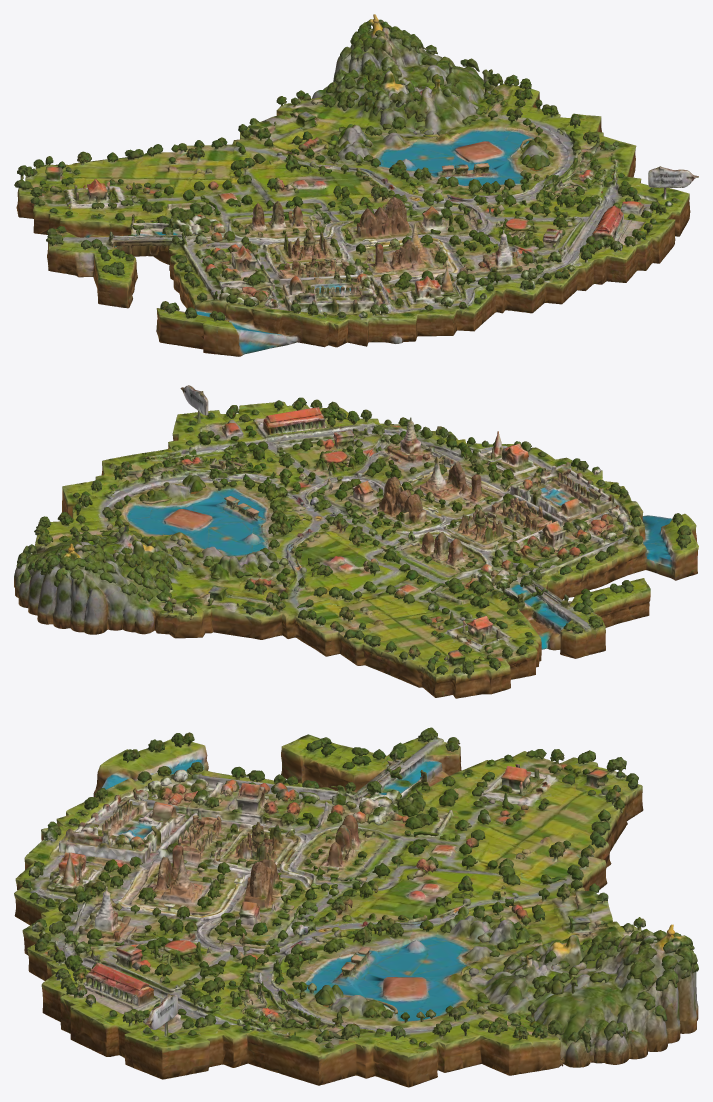
Rendered from lopburi-province.glb.
The picture shows the model from 3 angles, top to bottom: view 1: azimuth 30°, elevation 25°; view 2: azimuth 150°, elevation 25°; view 3: azimuth 270°, elevation 25°; orthographic projection. The views are drawn at different scales.
Size of the model in its own units: 1.9 by 0.256 by 1.7.
1 material, 1 textured.
